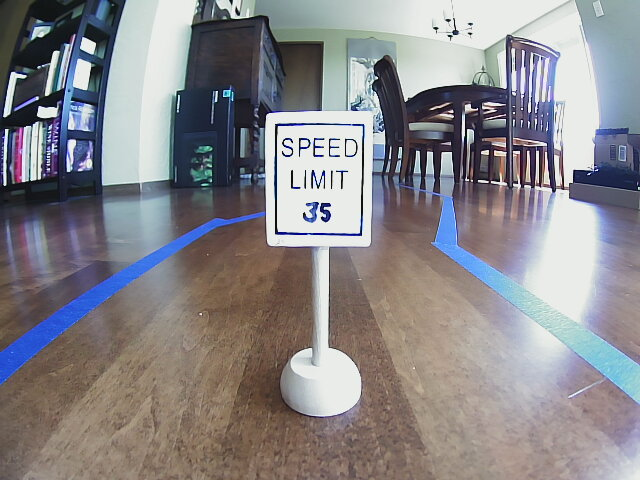SpeedLimit35: (264, 110, 372, 248)
